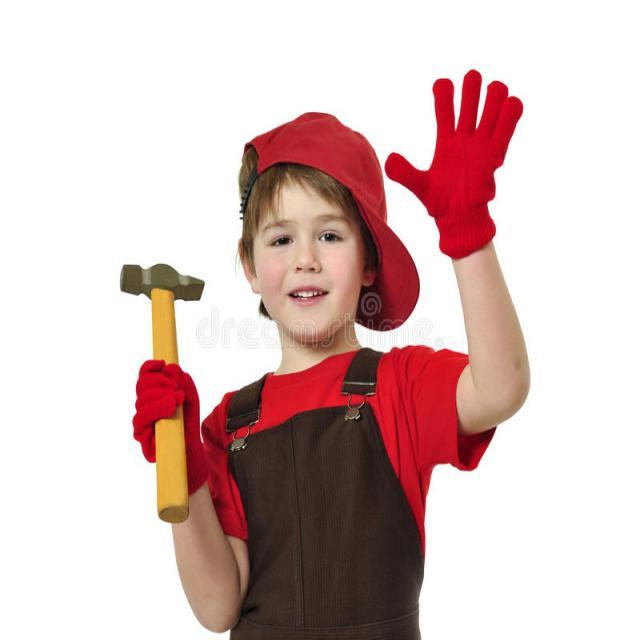hammer: (117, 246, 216, 531)
